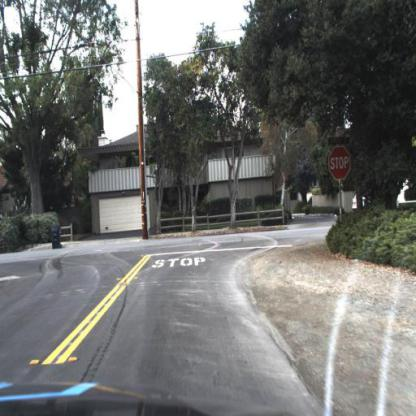car: (350, 192, 368, 217), (352, 192, 368, 212)
